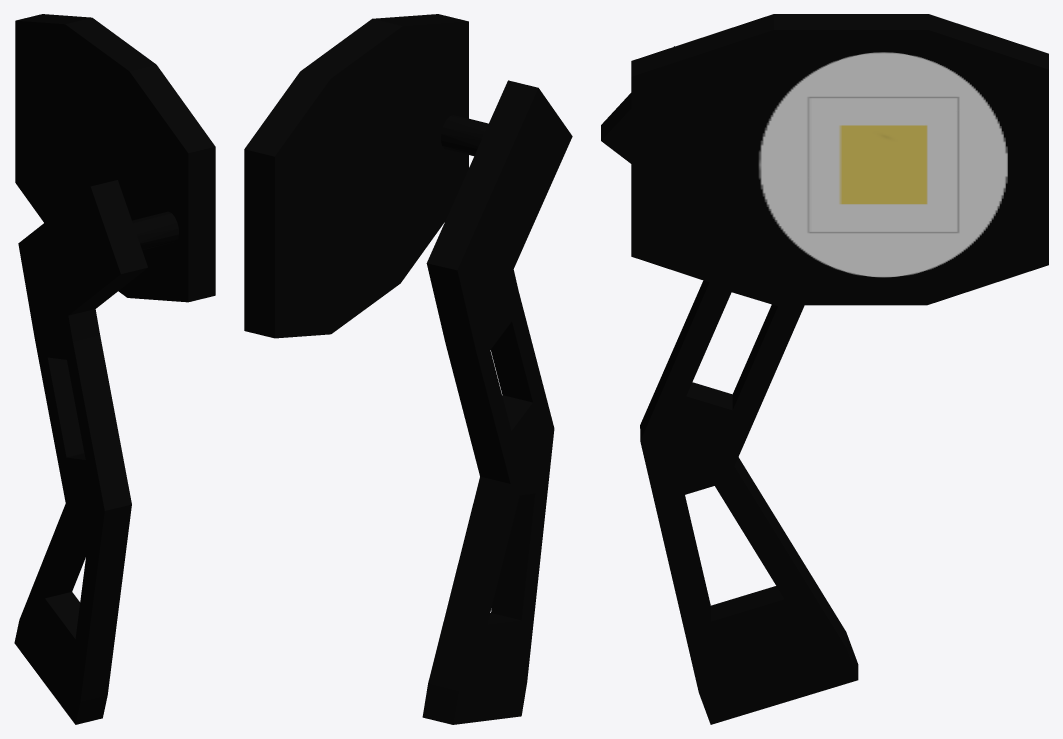
Rendered from mola_auv_lightL.dae.
The picture shows the model from 3 angles, left to right: view 1: azimuth 30°, elevation 25°; view 2: azimuth 150°, elevation 25°; view 3: azimuth 270°, elevation 25°; orthographic projection. The views are drawn at different scales.
Parts seen in each view (by area): view 1: LightL; view 2: LightL; view 3: LightL.
Boxes of the visible parts, x1,y1,x2,y2 form: LightL: [14, 14, 215, 724]; LightL: [244, 14, 572, 724]; LightL: [601, 14, 1048, 724].
Bounding box in the file's own units: 0.0394 × 0.118 × 0.2157.
1 material, 1 textured.
